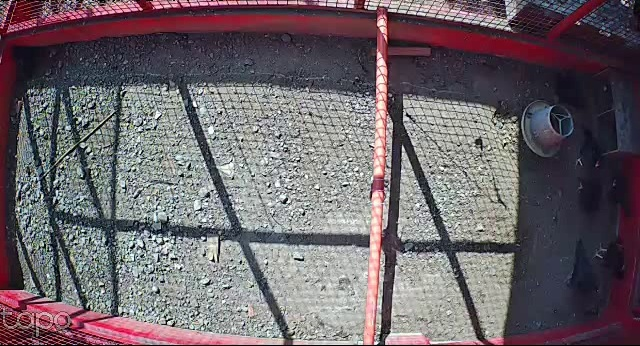Chicken: (563, 234, 599, 299), (576, 125, 604, 177)
Feeder: (520, 96, 575, 160)
